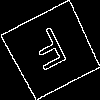F: (26, 25, 75, 80)
